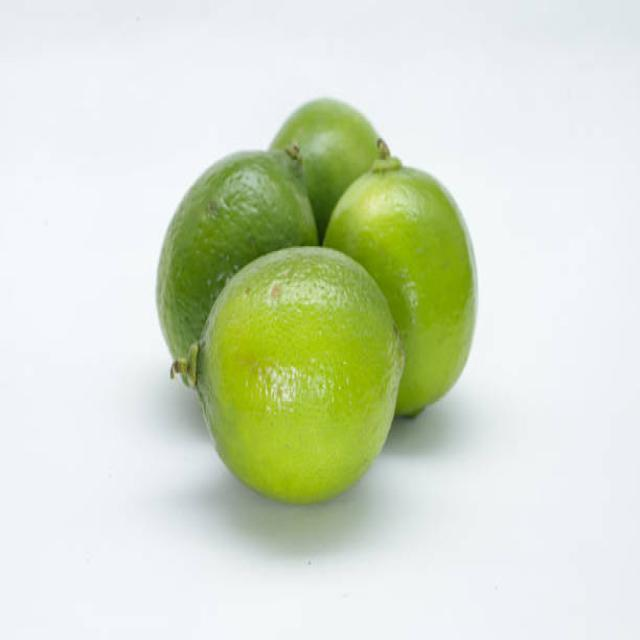Unripe: (192, 244, 405, 506)
